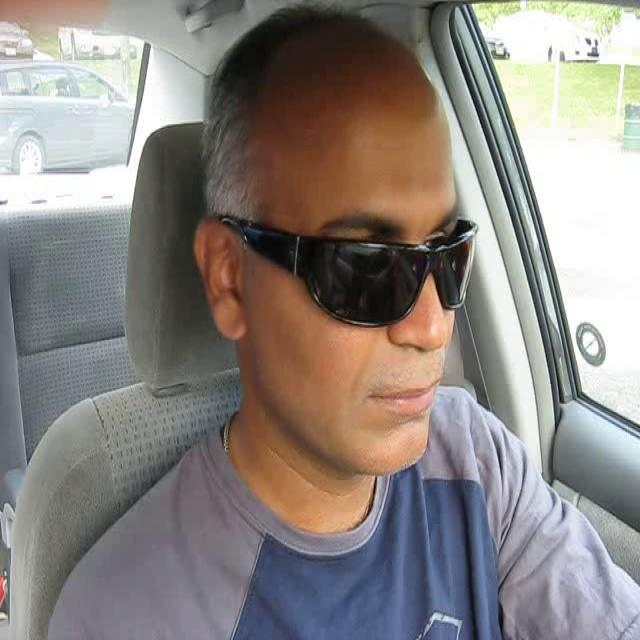close: (368, 373, 443, 421)
